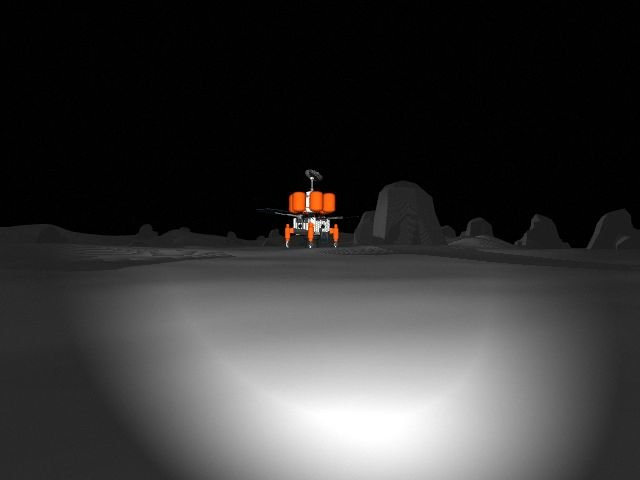homebase: (256, 166, 364, 252)
